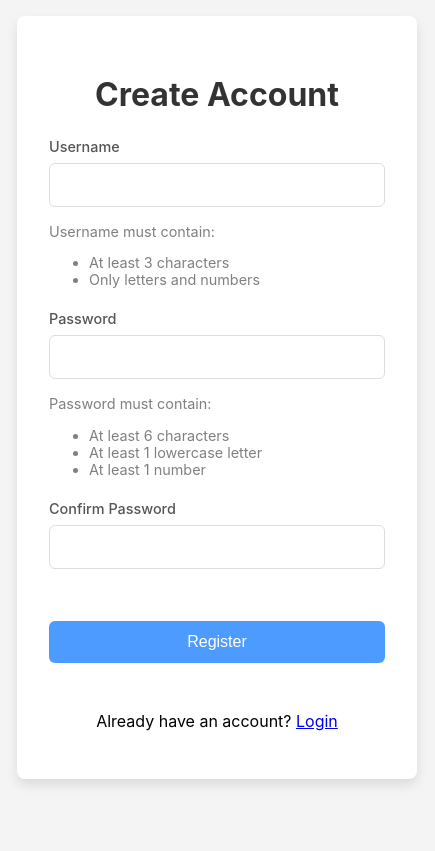
Test: Register page tests › should show error if username is too short
In the field labelled "Username": (217, 184) left=49, top=162, right=385, bottom=206, type "us"
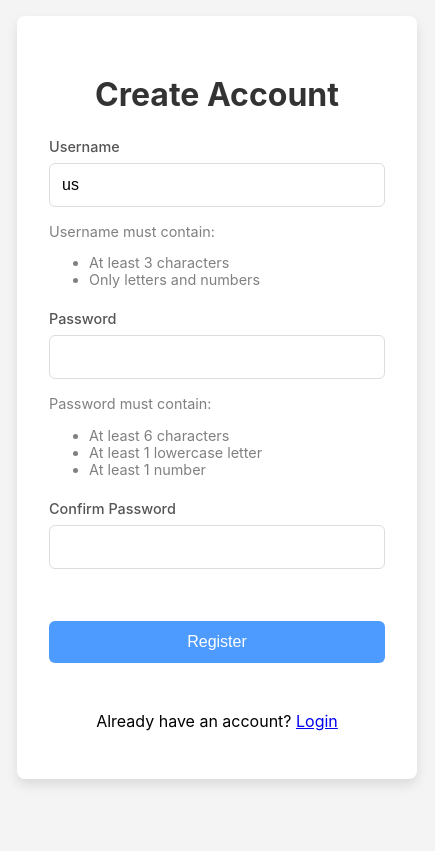
In the password field with test id "password": (217, 357) left=49, top=335, right=385, bottom=379, type "Password123!"
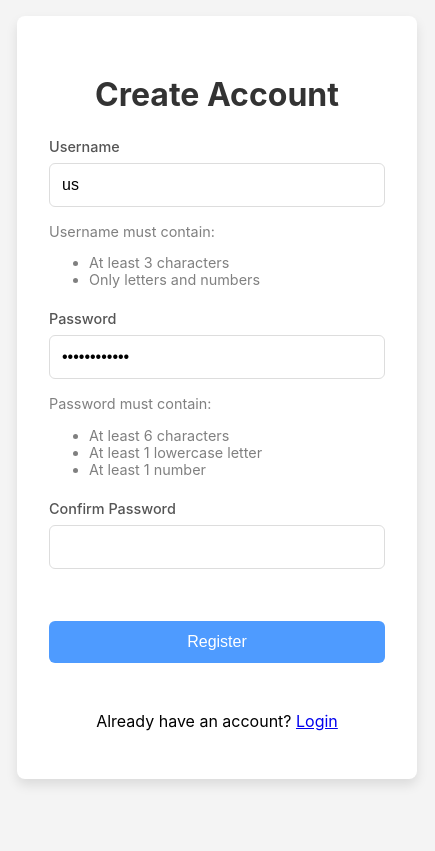
In the password field labelled "Confirm Password": (217, 547) left=49, top=525, right=385, bottom=569, type "Password123!"
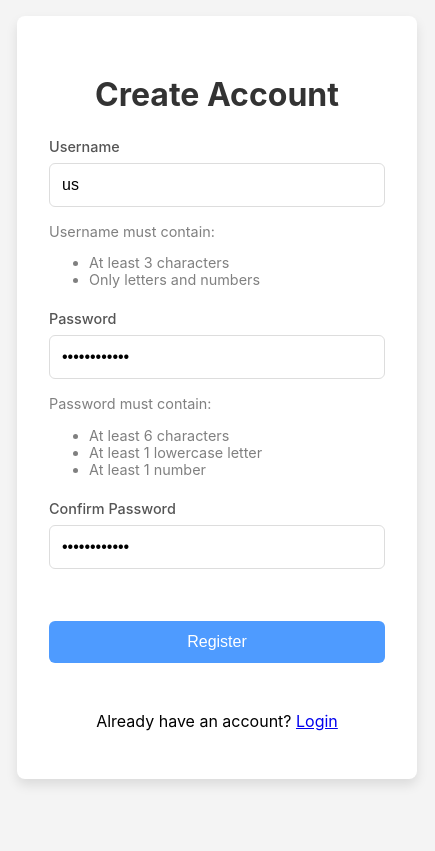
Click the button "Register": (217, 642) left=49, top=621, right=385, bottom=663
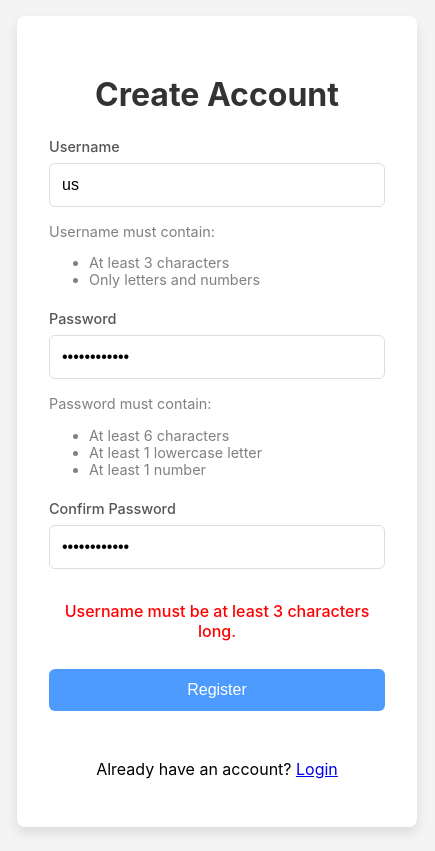
Check: the text "Username must be at least 3 characters long." is shown, box left=49, top=601, right=385, bottom=641
